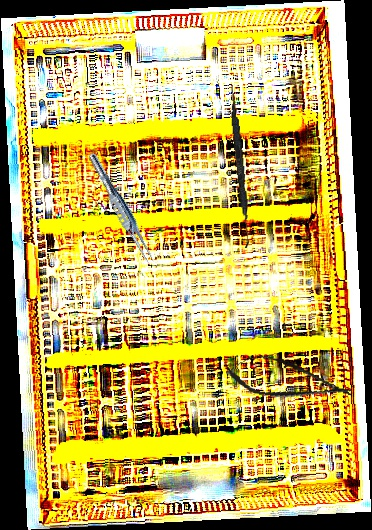Micro Scissor: (223, 348, 356, 412)
Spatula Surgical: (225, 84, 255, 249)
Tissue Forceps: (82, 150, 161, 268)
